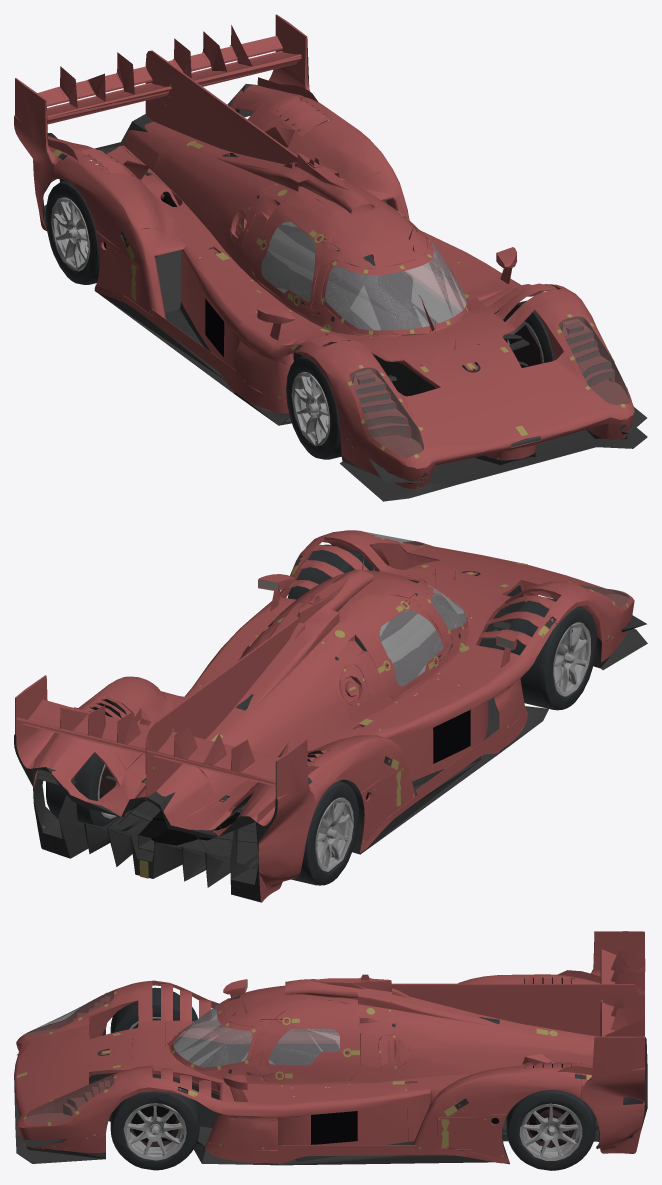
File: glickenhaus-scg-007.obj
3 renders of one model, top to bottom at view 1: azimuth 30°, elevation 25°; view 2: azimuth 150°, elevation 25°; view 3: azimuth 270°, elevation 25°, orthographic. The views are drawn at different scales.
Visible parts, largest first — view 1: BODY, GLASS, WHEEL_RR, WHEEL_RF, WHEEL_LF; view 2: BODY, WHEEL_RF, GLASS, WHEEL_RR, WHEEL_LR, WHEEL_LF; view 3: BODY, GLASS, WHEEL_LF, WHEEL_LR, WHEEL_RF.
Boxes of the visible parts, <box> form: BODY: <box>14,14,647,501</box>; GLASS: <box>261,221,629,457</box>; WHEEL_RR: <box>45,180,99,284</box>; WHEEL_RF: <box>286,356,341,459</box>; WHEEL_LF: <box>504,300,555,363</box>; BODY: <box>14,530,647,902</box>; WHEEL_RF: <box>503,597,596,710</box>; GLASS: <box>273,531,629,686</box>; WHEEL_RR: <box>291,780,359,885</box>; WHEEL_LR: <box>46,753,118,826</box>; WHEEL_LF: <box>287,544,376,599</box>; BODY: <box>14,931,647,1165</box>; GLASS: <box>27,990,339,1122</box>; WHEEL_LF: <box>110,1074,199,1170</box>; WHEEL_LR: <box>506,1090,595,1170</box>; WHEEL_RF: <box>110,987,197,1033</box>.
Size of the model in its own units: 2.01 by 1.24 by 4.96.
